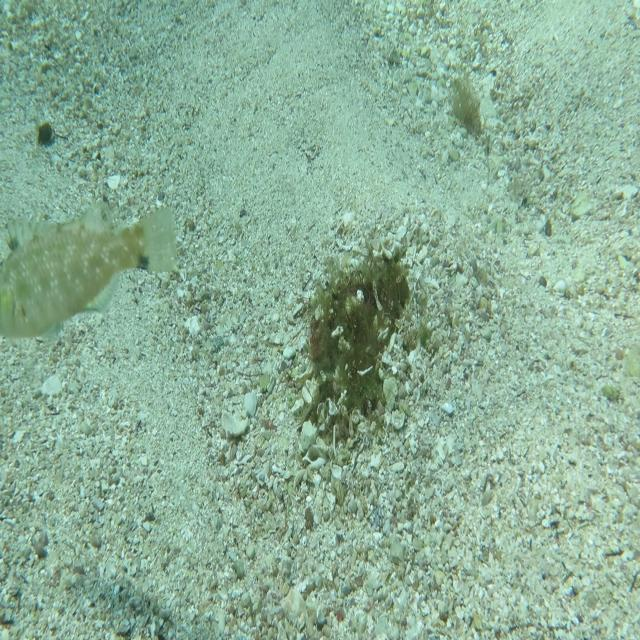CHASE_FLEE: (0, 197, 181, 345)
core_nest: (354, 268, 394, 303)
nest: (286, 220, 431, 458)
